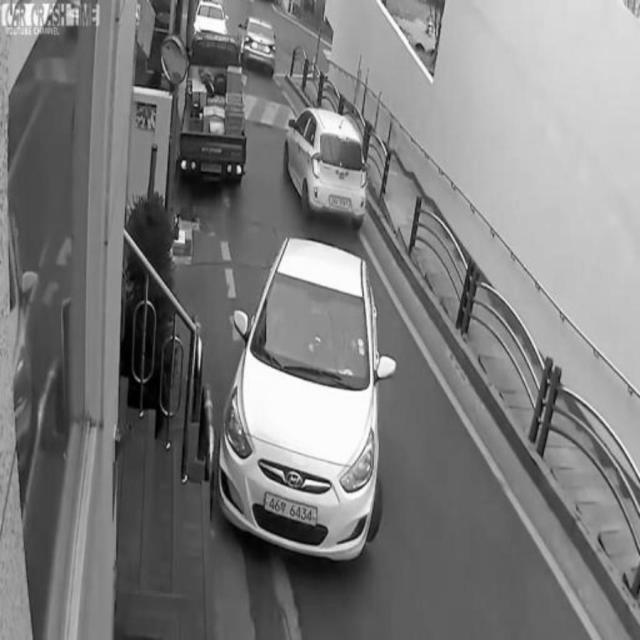vehicle: (221, 237, 381, 562), (178, 28, 246, 192), (281, 103, 369, 223), (239, 10, 276, 78)
